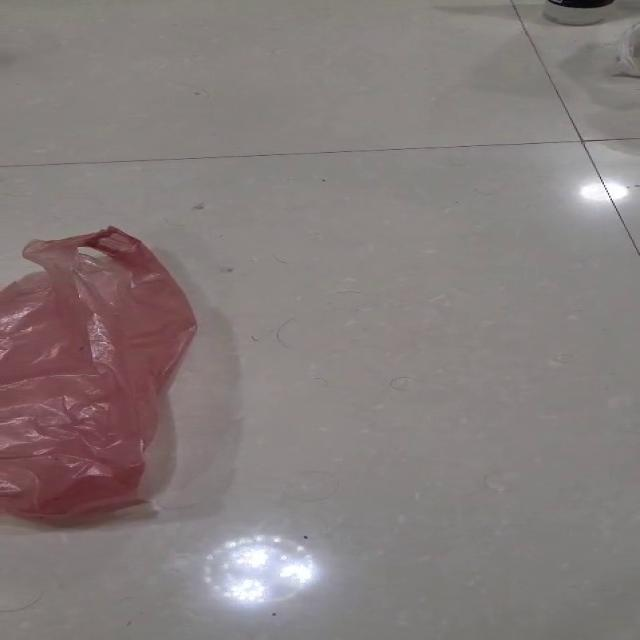plastic: (0, 225, 198, 522)
